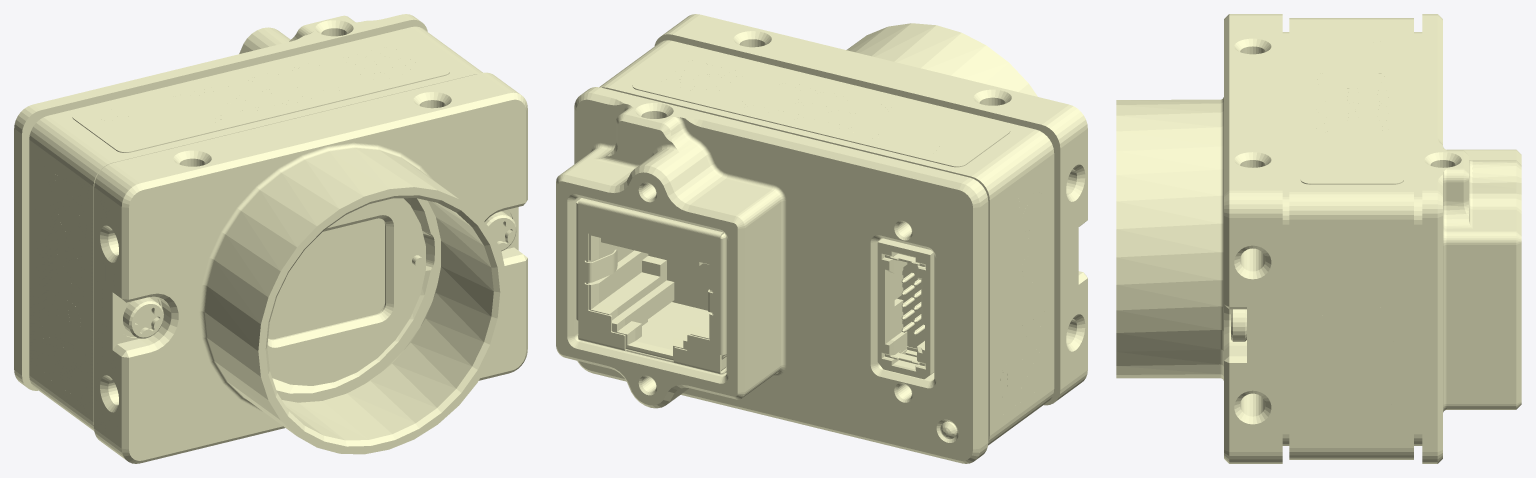
File: Genie_Nano.dae
3 views of the same model, side by side, from view 1: azimuth 30°, elevation 25°; view 2: azimuth 150°, elevation 25°; view 3: azimuth 270°, elevation 25° (orthographic). The views are drawn at different scales.
Parts seen in each view (by area): view 1: node0; view 2: node0; view 3: node0.
Part boxes in pixels (bbox=[...]): node0: bbox=[14, 14, 527, 463]; node0: bbox=[556, 14, 1087, 463]; node0: bbox=[1116, 14, 1521, 463].
Bounding box in the file's own units: 0.044 × 0.0392 × 0.029.
